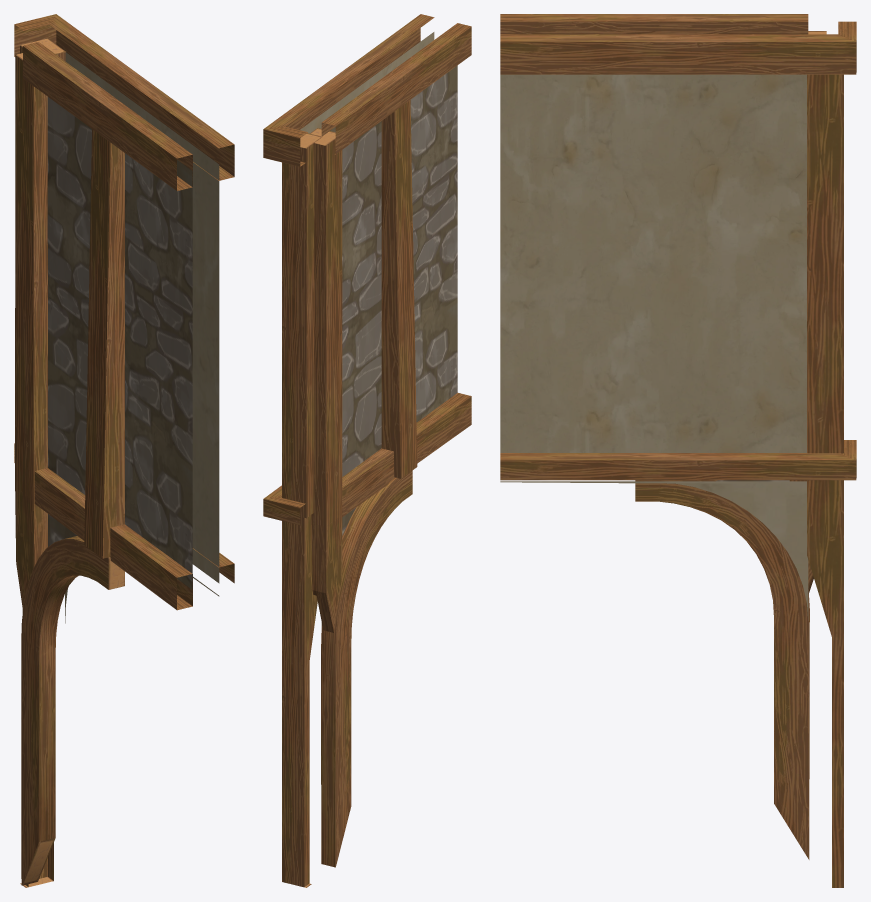
File: Overhang_Side_UnevenBrick_Long_L.glb
3 renders of one model, left to right at view 1: azimuth 30°, elevation 25°; view 2: azimuth 150°, elevation 25°; view 3: azimuth 270°, elevation 25°, orthographic. The views are drawn at different scales.
Visible parts, largest first — view 1: Overhang_Side_UnevenBrick_Long_L; view 2: Overhang_Side_UnevenBrick_Long_L; view 3: Overhang_Side_UnevenBrick_Long_L.
Part boxes in pixels (x1=…): Overhang_Side_UnevenBrick_Long_L: x1=14, y1=14, x2=234, y2=887; Overhang_Side_UnevenBrick_Long_L: x1=263, y1=14, x2=471, y2=887; Overhang_Side_UnevenBrick_Long_L: x1=500, y1=14, x2=856, y2=887.
Bounding box in the file's own units: 0.4794 × 6.12 × 2.31.
Materials: 3 (3 with a texture image).
